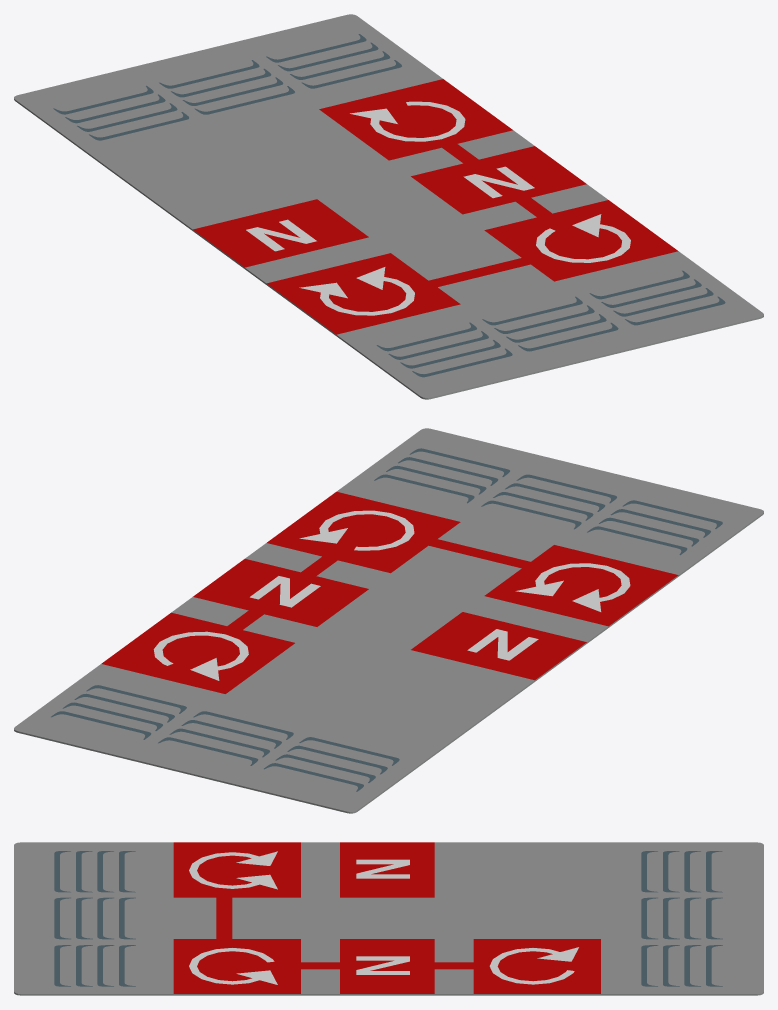
The picture shows the model from 3 angles, top to bottom: view 1: azimuth 30°, elevation 25°; view 2: azimuth 150°, elevation 25°; view 3: azimuth 270°, elevation 25°; orthographic projection. The views are drawn at different scales.
Visible parts, largest first — view 1: world; view 2: world; view 3: world.
Part boxes in pixels (box(x1,y1,x2,y2)): world: box(14, 14, 763, 399); world: box(14, 428, 763, 813); world: box(14, 842, 763, 995).
Size of the model in its own units: 0.022 by 0.0001 by 0.046.
